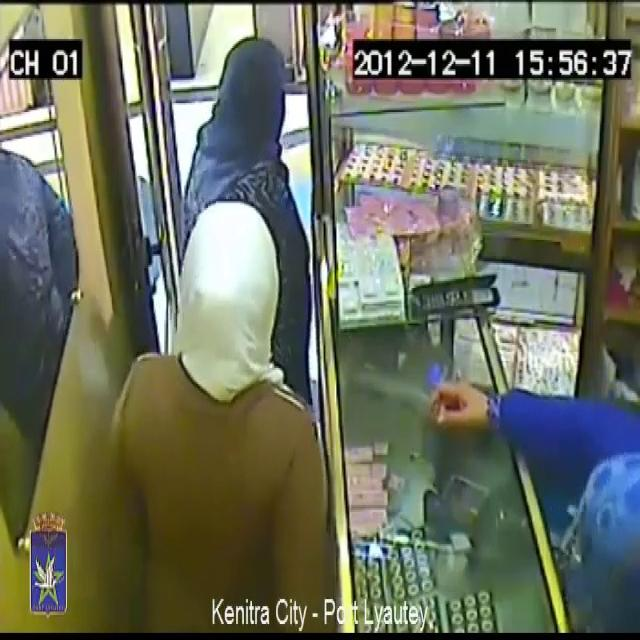normal: (81, 210, 340, 640), (435, 264, 640, 640), (145, 12, 306, 386)
